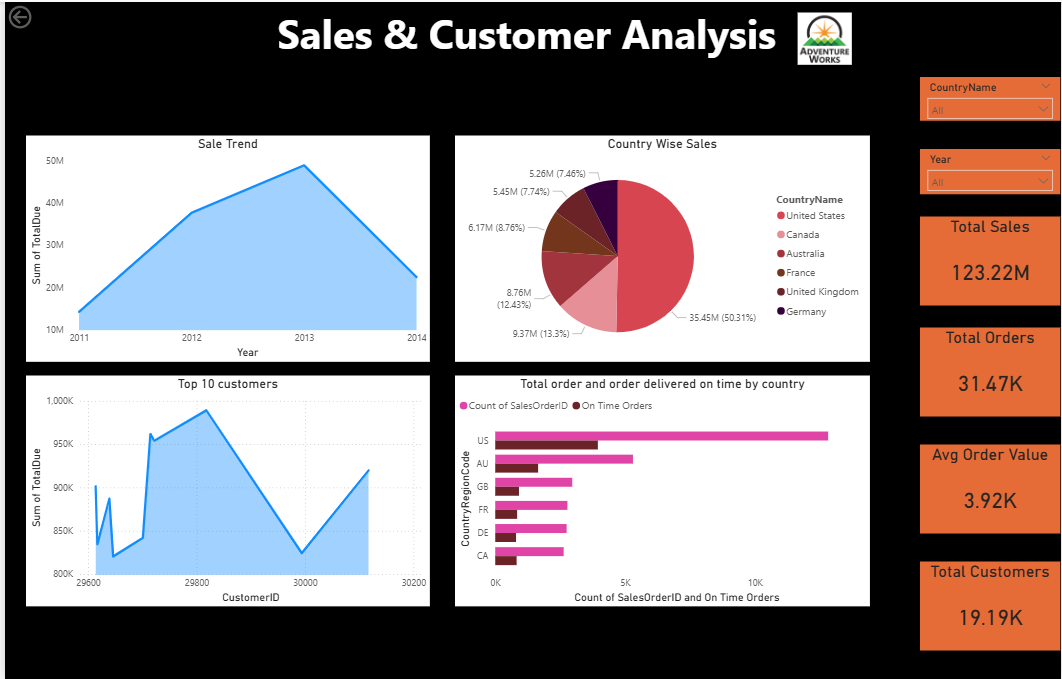

The dashboard page shown, as its layout file describes it:
{"tool":"powerbi","page":{"name":"Page 1","canvas":[1400,900],"ordinal":0},"visuals":[{"type":"textbox","box":[355.9,0,687.9,99.4],"z":0},{"type":"image","box":[1025.9,13.9,121.3,69.6],"z":1000},{"type":"card","title":"Total Sales","fields":{"Values":["Sum(AdventureWorks_SalesOrderHeader.TotalDue)"]},"box":[1213.3,285.2,186,117.8],"z":2000},{"type":"card","title":"Total Orders","fields":{"Values":["Count(AdventureWorks_SalesOrderHeader.SalesOrderID)"]},"box":[1213.3,432,186,117.8],"z":3000},{"type":"card","title":"Avg Order Value","fields":{"Values":["Avg(AdventureWorks_SalesOrderHeader.TotalDue)"]},"box":[1213.3,587,186,117.8],"z":4000},{"type":"card","title":"Total Customers ","fields":{"Values":["Count(AdventureWorks_CustomerMaster.AddressID)"]},"box":[1213.3,742,186,117.8],"z":5000},{"type":"actionButton","box":[0,0,100,40],"z":6000},{"type":"lineChart","title":"Sale Trend","fields":{"Y":["Sum(AdventureWorks_SalesOrderHeader.TotalDue)"],"Category":["AdventureWorks_SalesOrderHeader.OrderDate.Variation.Date Hierarchy.Year","AdventureWorks_SalesOrderHeader.OrderDate.Variation.Date Hierarchy.Quarter","AdventureWorks_SalesOrderHeader.OrderDate.Variation.Date Hierarchy.Month"]},"box":[26.9,177.8,535.3,299.7],"z":7000},{"type":"pieChart","title":"Country Wise Sales","fields":{"Category":["AdventureWorks_CustomerMaster.CountryName"],"Y":["Sum(AdventureWorks_SalesOrderHeader.TotalDue)"]},"box":[597.3,177.8,549.8,299.7],"z":8000},{"type":"areaChart","title":"Top 10 customers ","fields":{"Category":["AdventureWorks_SalesOrderHeader.CustomerID"],"Y":["Sum(AdventureWorks_SalesOrderHeader.TotalDue)"]},"box":[26.9,496.1,535.3,305.9],"z":9000},{"type":"slicer","fields":{"Values":["AdventureWorks_CustomerMaster.CountryName"]},"box":[1213.3,99.2,186,57.9],"z":10000},{"type":"slicer","fields":{"Values":["AdventureWorks_SalesOrderHeader.OrderDate.Variation.Date Hierarchy.Year"]},"box":[1213.3,194.3,186,59.9],"z":11000},{"type":"clusteredBarChart","title":"Total order and order delivered on time by country","fields":{"Category":["AdventureWorks_CustomerMaster.CountryRegionCode"],"Y":["CountNonNull(AdventureWorks_SalesOrderHeader.SalesOrderID)","AdventureWorks_SalesOrderHeader.On Time Orders"]},"box":[597,496,550,306],"z":11001}]}

Visuals, with their boxes in screenshot pixels (x1, y1, x2, y2), scaled from the page's 1400x900 canvas onto the 1062x679 screenshot:
textbox: 270,0,792,75
image: 778,10,870,63
"Total Sales" card: 920,215,1061,304
"Total Orders" card: 920,326,1061,415
"Avg Order Value" card: 920,443,1061,532
"Total Customers " card: 920,560,1061,649
actionButton: 0,0,76,30
"Sale Trend" lineChart: 20,134,426,360
"Country Wise Sales" pieChart: 453,134,870,360
"Top 10 customers " areaChart: 20,374,426,605
slicer - AdventureWorks_CustomerMaster.CountryName: 920,75,1061,119
slicer - AdventureWorks_SalesOrderHeader.OrderDate.Variation.Date Hierarchy.Year: 920,147,1061,192
"Total order and order delivered on time by country" clusteredBarChart: 453,374,870,605
